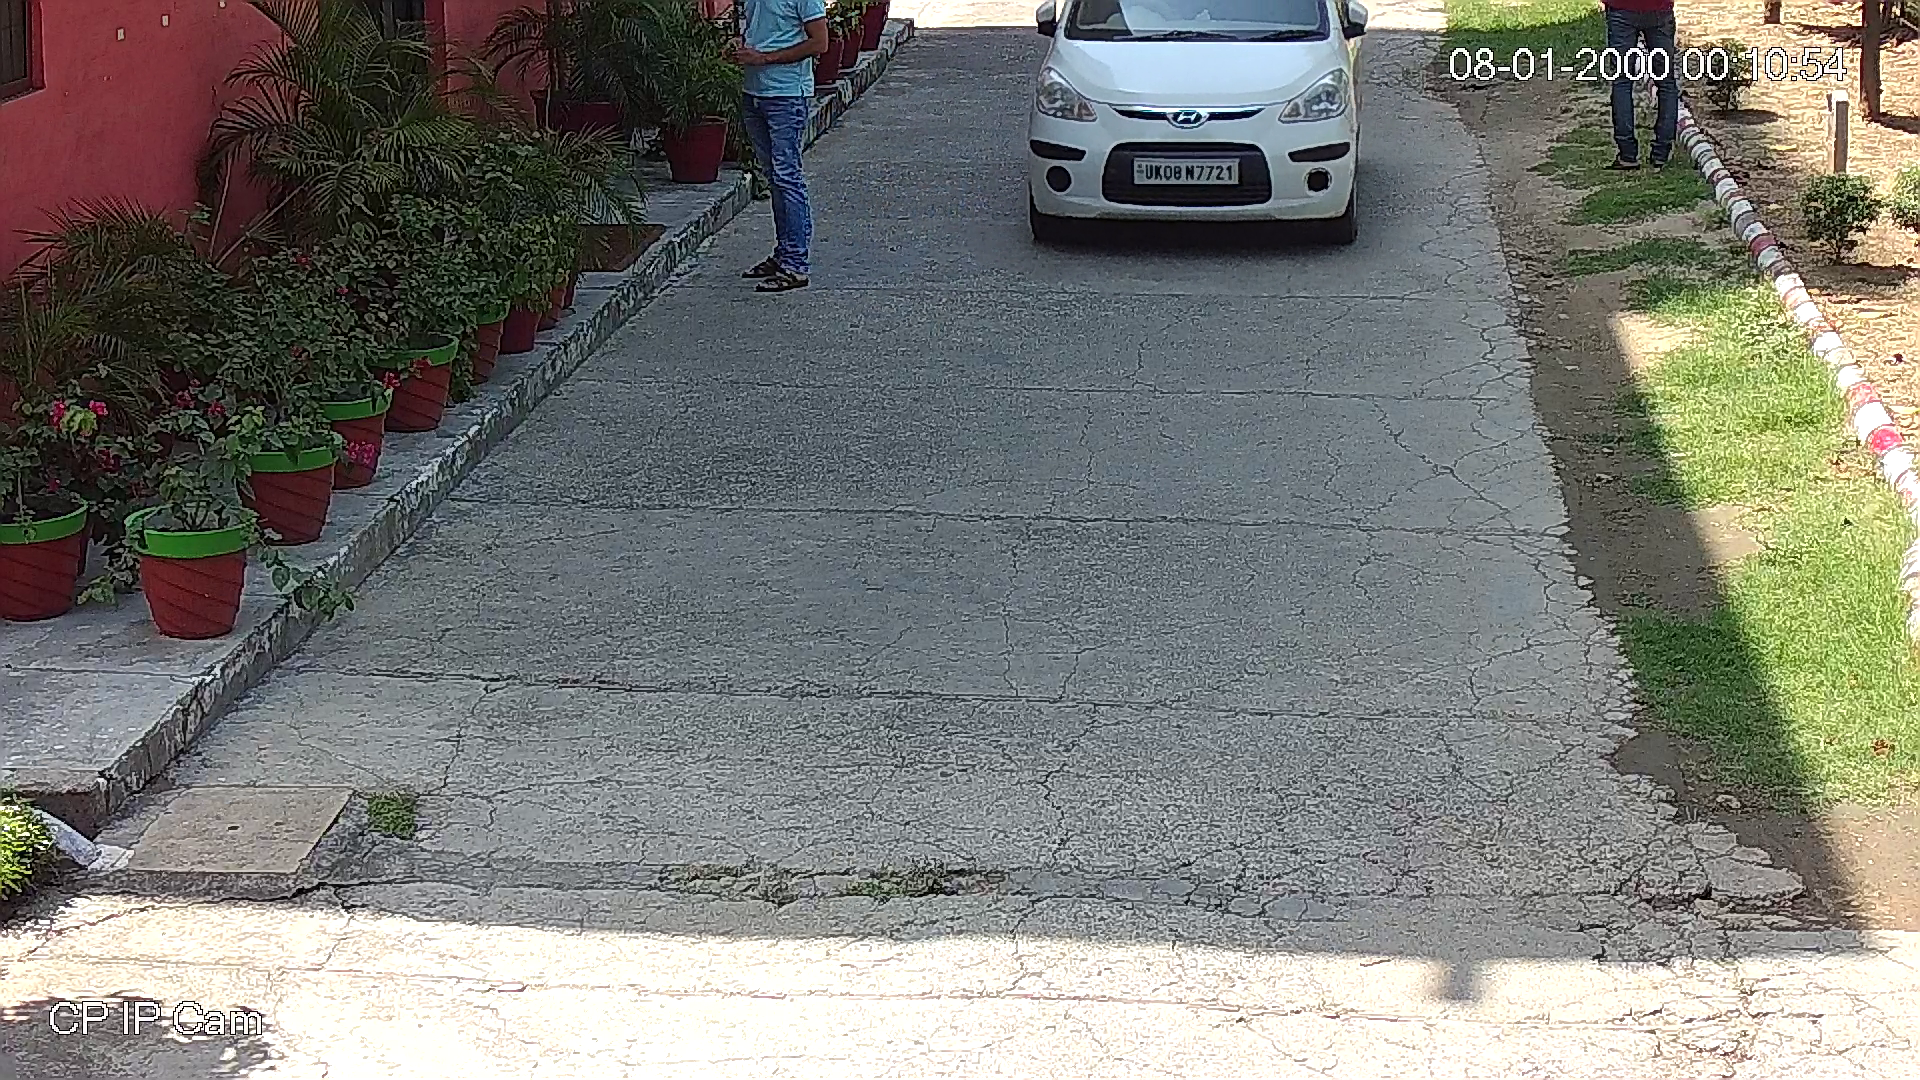plate: (1136, 157, 1241, 188)
